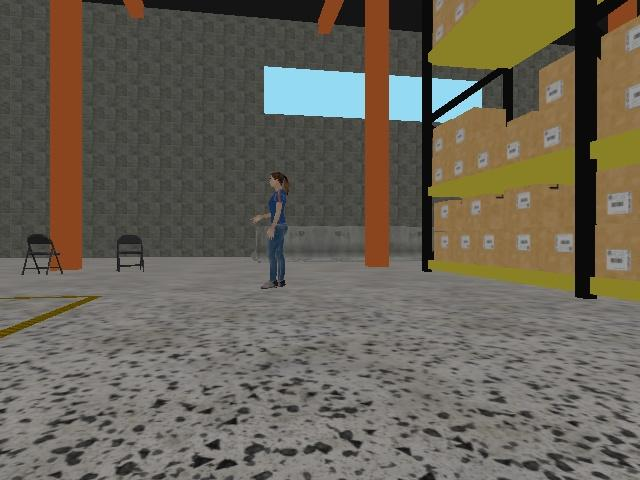chair: (21, 233, 64, 275), (116, 235, 144, 273)
person: (250, 172, 291, 289)
